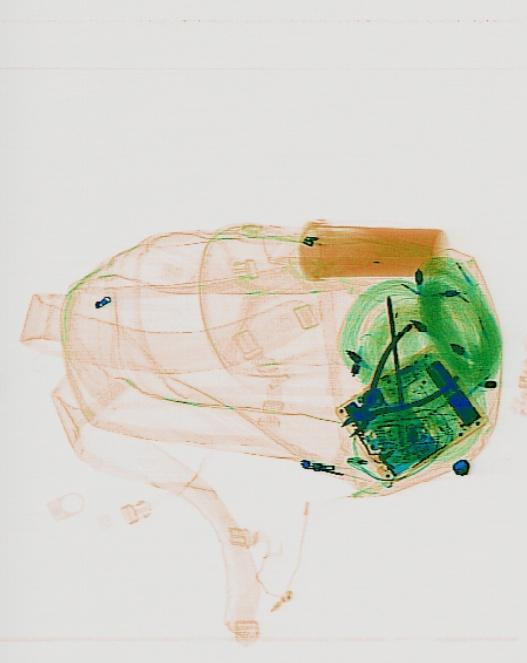Pliers: (320, 314, 460, 466)
